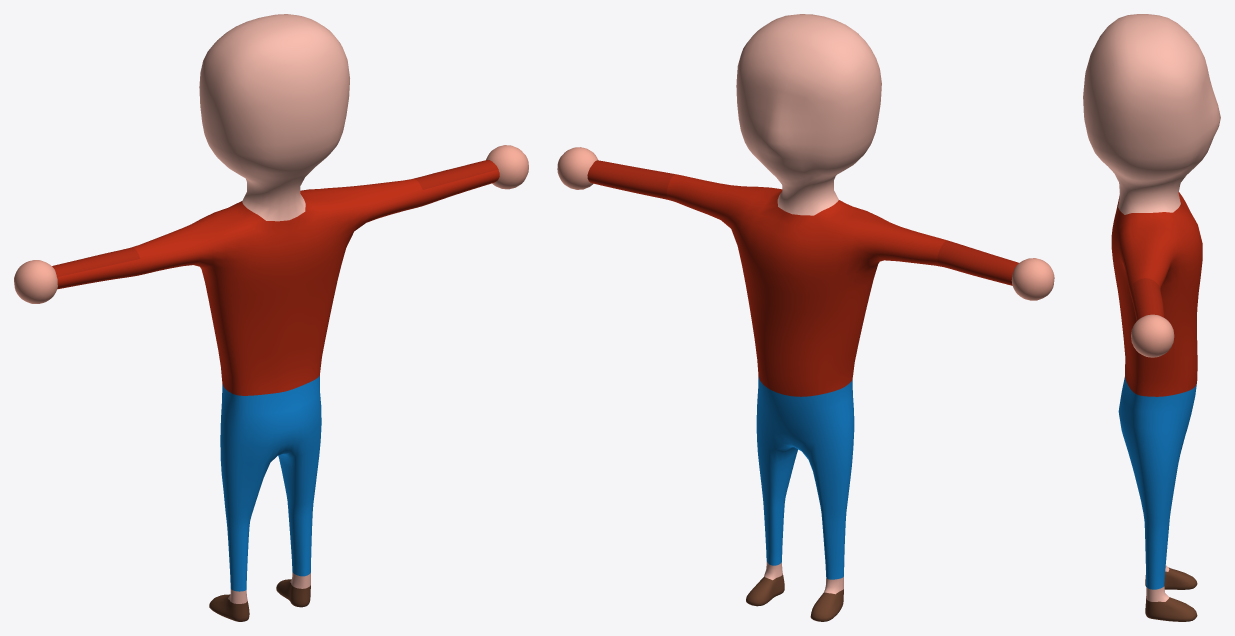
Rendered from character.fbx.
The picture shows the model from 3 angles, left to right: view 1: azimuth 30°, elevation 25°; view 2: azimuth 150°, elevation 25°; view 3: azimuth 270°, elevation 25°; orthographic projection. The views are drawn at different scales.
Visible parts, largest first — view 1: character; view 2: character; view 3: character.
Boxes of the visible parts, left/top/right/bottom form: character: left=14, top=14, right=528, bottom=621; character: left=557, top=14, right=1054, bottom=621; character: left=1083, top=14, right=1220, bottom=621.
Bounding box in the file's own units: 2.95 × 3.29 × 0.7106.
